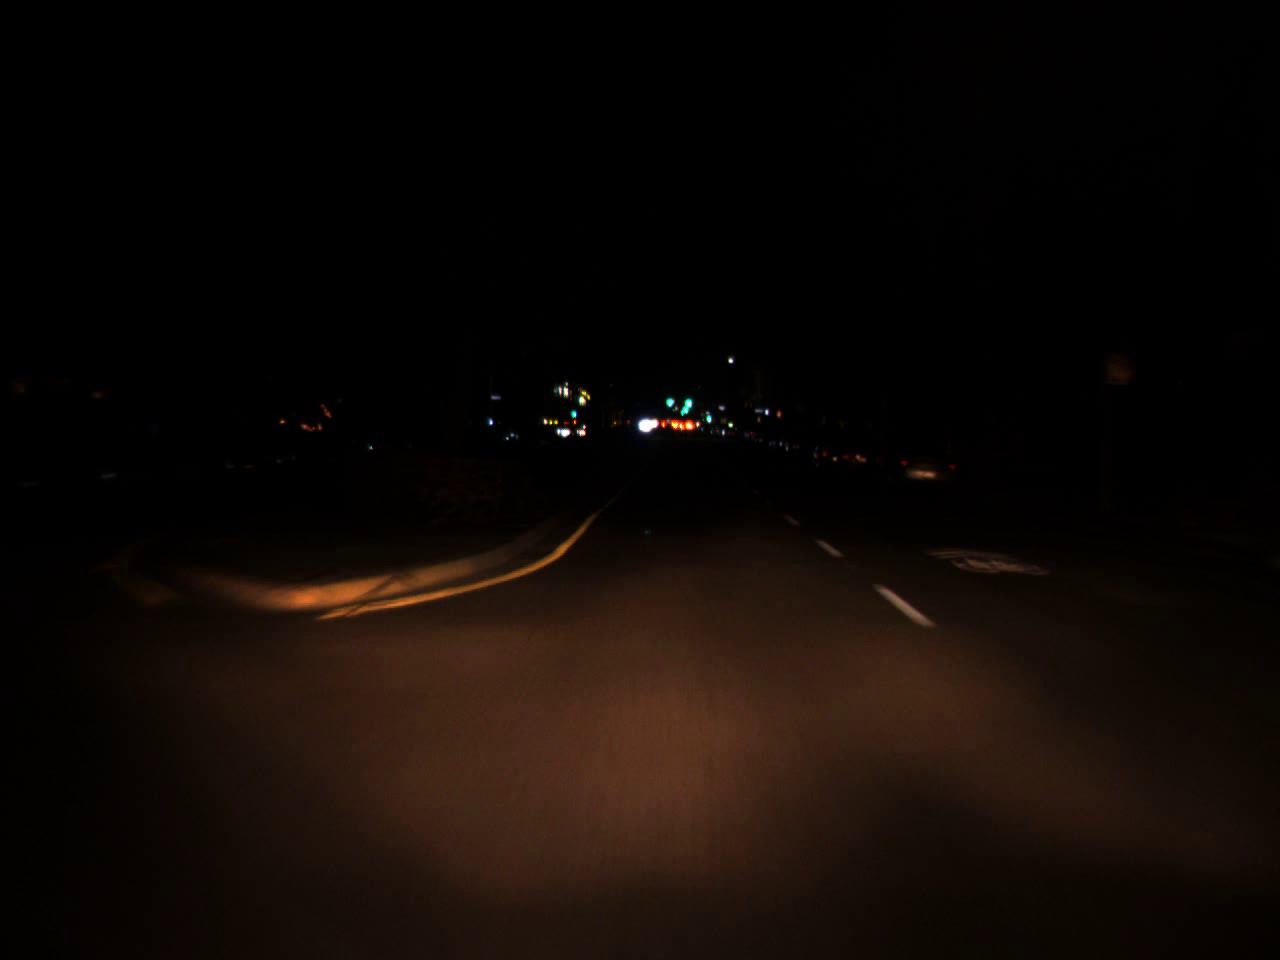go: (680, 388, 694, 412), (702, 403, 714, 424), (663, 389, 675, 407), (570, 404, 577, 419)
